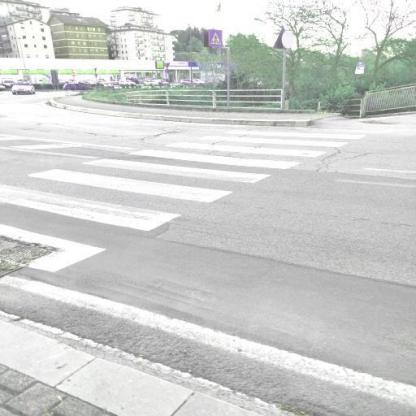crosswalk: (25, 156, 285, 206)
